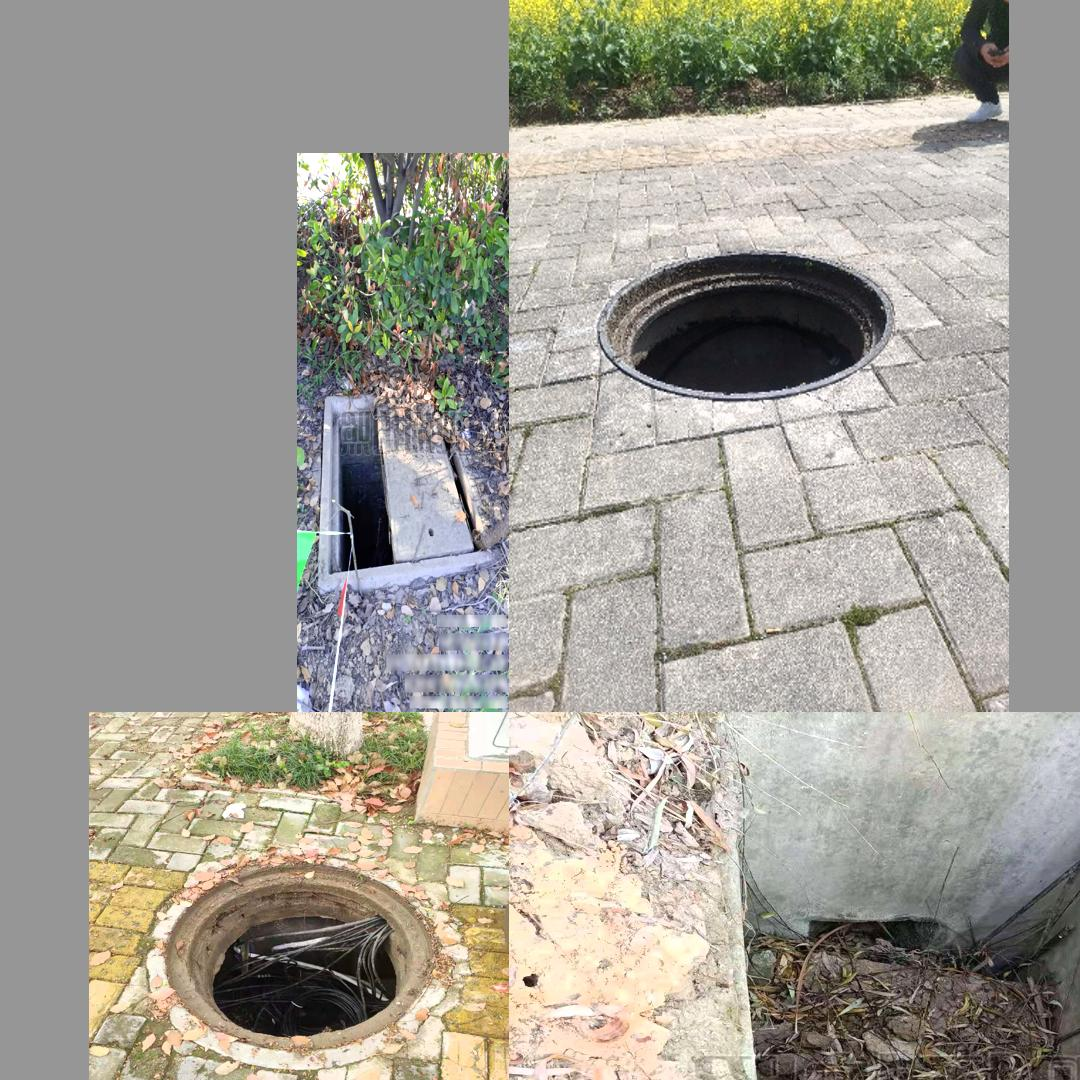lose: (720, 718, 1080, 1080), (143, 850, 435, 1058), (587, 232, 898, 417), (316, 383, 507, 592)
